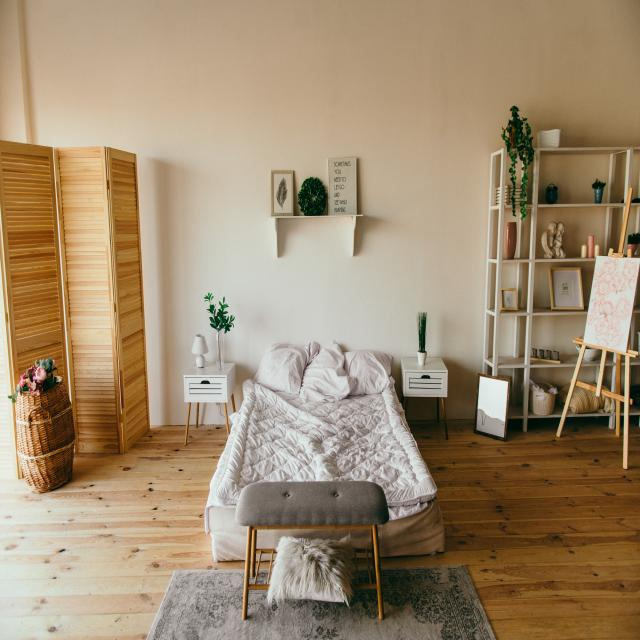floor: (0, 303, 245, 640), (379, 415, 640, 640), (357, 558, 368, 568), (259, 561, 271, 569), (255, 562, 259, 569)
wall: (22, 0, 640, 426), (535, 206, 607, 258), (538, 155, 610, 205), (533, 261, 596, 308), (530, 314, 588, 358), (16, 0, 33, 143), (529, 367, 576, 390), (610, 152, 627, 204), (610, 207, 624, 253), (631, 149, 640, 202), (523, 209, 532, 258), (518, 316, 527, 358), (526, 158, 534, 204), (487, 315, 495, 359), (521, 263, 529, 307), (492, 209, 499, 258), (577, 366, 597, 383), (490, 263, 497, 309), (628, 206, 638, 236), (513, 152, 522, 185), (602, 366, 613, 392), (506, 152, 514, 185), (517, 368, 524, 404), (630, 365, 640, 387), (495, 155, 501, 188), (620, 366, 625, 396), (487, 364, 493, 376)
